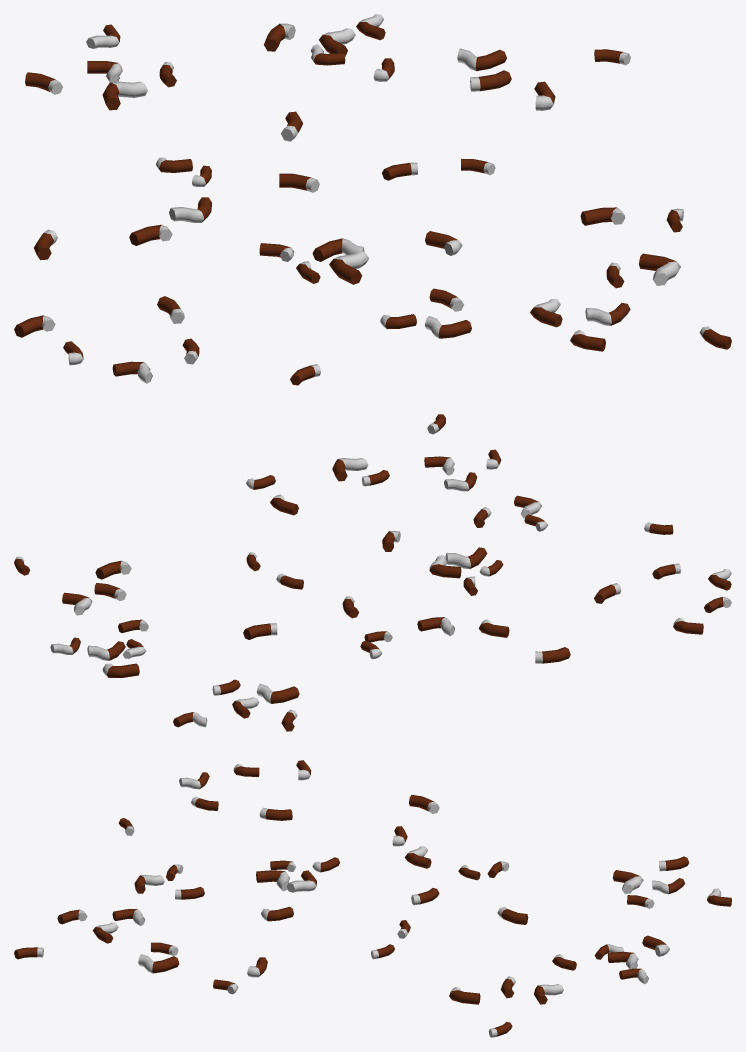
The model's file is cigarettes.fbx.
3 renders of one model, top to bottom at view 1: azimuth 30°, elevation 25°; view 2: azimuth 150°, elevation 25°; view 3: azimuth 270°, elevation 25°, orthographic. The views are drawn at different scales.
Parts seen in each view (by area): view 1: Mesher001; view 2: Mesher001; view 3: Mesher001.
Part boxes in pixels (x1,y1,x2,y2): Mesher001: (14, 14, 731, 385); Mesher001: (14, 414, 731, 731); Mesher001: (14, 760, 731, 1037).
Size of the model in its own units: 146 by 2.28 by 163.
